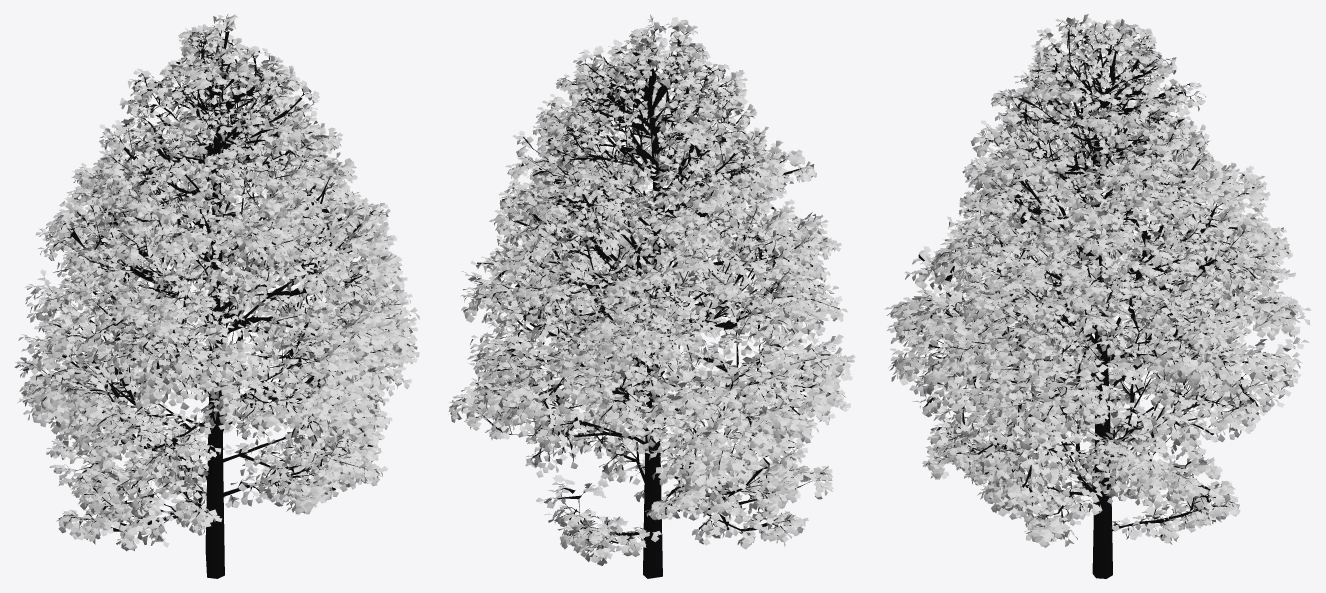
3 renders of one model, left to right at view 1: azimuth 30°, elevation 25°; view 2: azimuth 150°, elevation 25°; view 3: azimuth 270°, elevation 25°, orthographic. The views are drawn at different scales.
Visible parts, largest first — view 1: Tree_Acer-pseudoplatanus_D_summer; view 2: Tree_Acer-pseudoplatanus_D_summer; view 3: Tree_Acer-pseudoplatanus_D_summer.
Boxes of the visible parts, box(x1,y1,x2,y2) form: Tree_Acer-pseudoplatanus_D_summer: box(14, 14, 419, 578); Tree_Acer-pseudoplatanus_D_summer: box(448, 14, 855, 578); Tree_Acer-pseudoplatanus_D_summer: box(884, 14, 1311, 578).
Size of the model in its own units: 16.32 by 23.93 by 16.71.
Materials: 2 (1 with a texture image).
